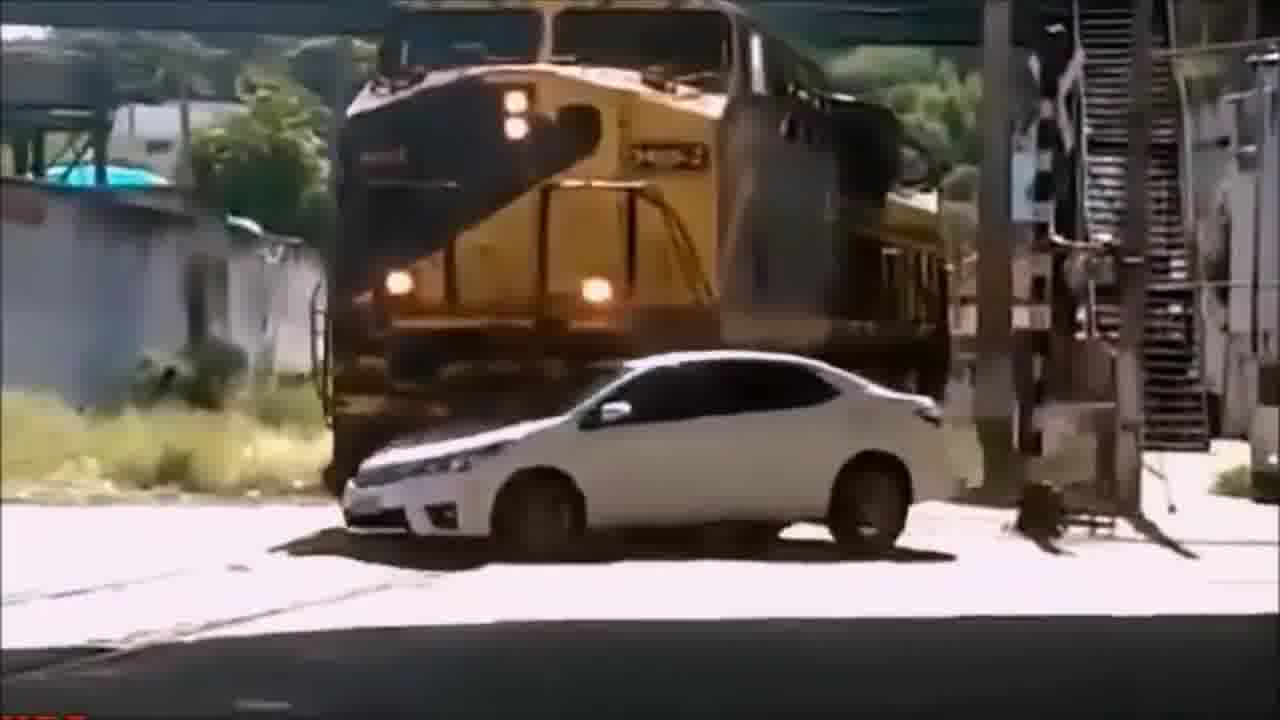crossing railway track: (316, 340, 970, 560)
